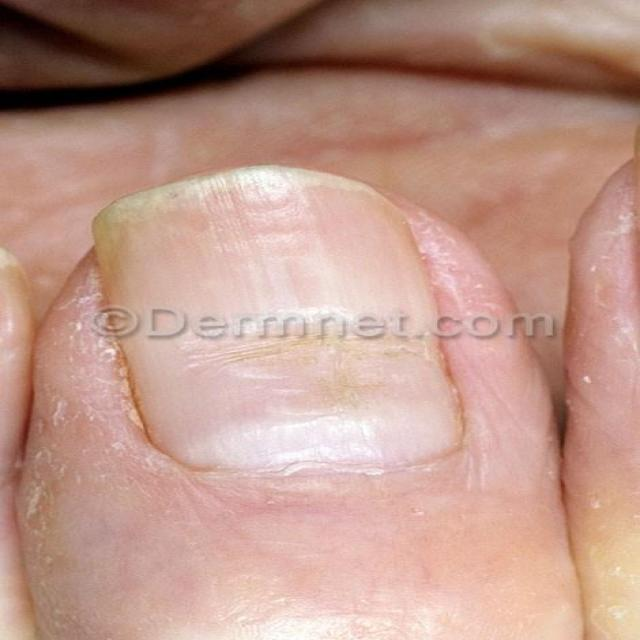Nail: (89, 167, 470, 476)
